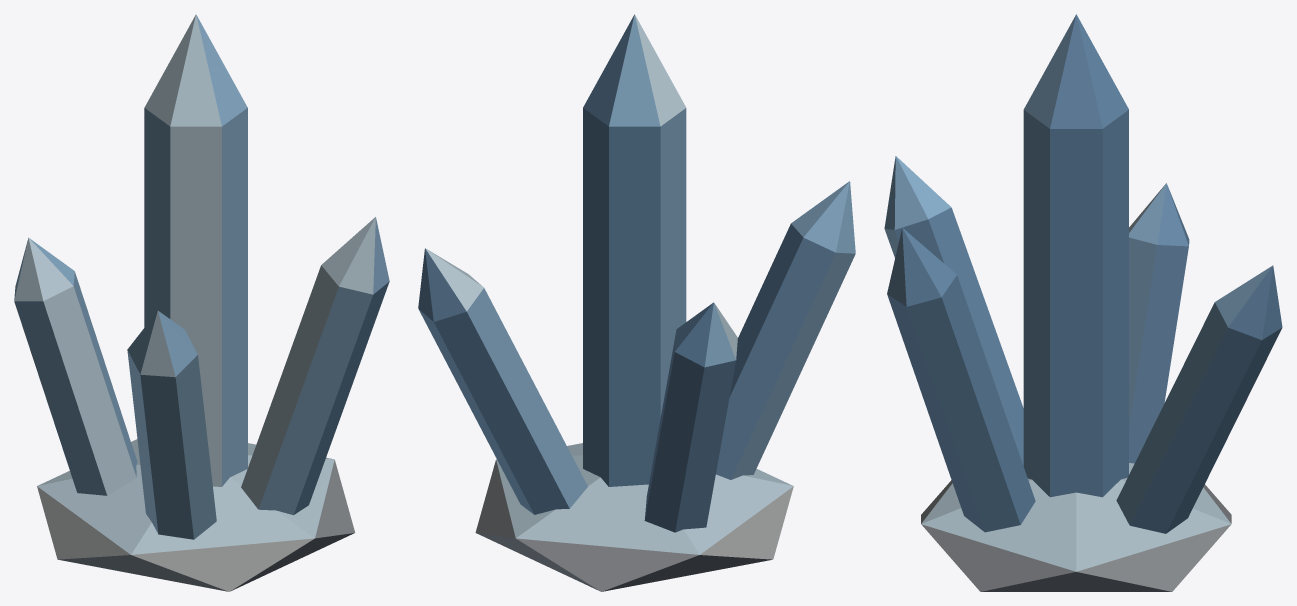
The model's file is crystals.glb.
3 renders of one model, left to right at view 1: azimuth 30°, elevation 25°; view 2: azimuth 150°, elevation 25°; view 3: azimuth 270°, elevation 25°, orthographic. The views are drawn at different scales.
Visible parts, largest first — view 1: crystals; view 2: crystals; view 3: crystals.
Part boxes in pixels (x1=…): crystals: x1=14, y1=14, x2=389, y2=591; crystals: x1=418, y1=14, x2=855, y2=591; crystals: x1=884, y1=14, x2=1282, y2=591.
Bounding box in the file's own units: 0.8138 × 1.42 × 0.9811.
